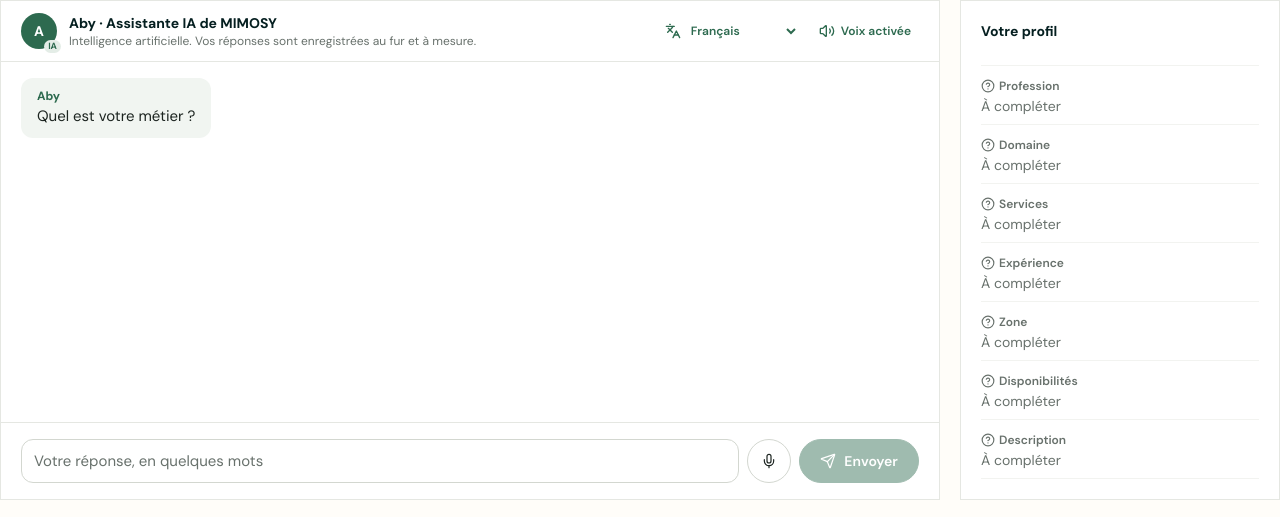
Test: Aby : français par défaut, autre langue sur demande › « Parle-moi en wolof » : la réponse d’Aby passe en wolof
Type "Parle-moi en wolof" into the field with test id "reponse-texte" at coordinates (380, 461), box [21,439,739,483]
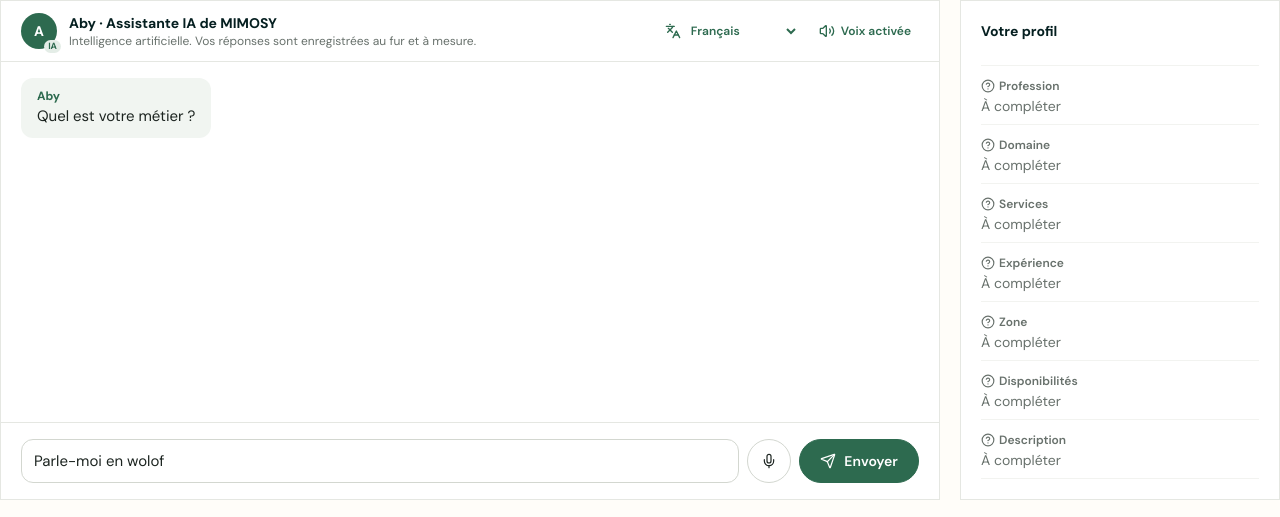
Submit the form, box [1,422,939,499]
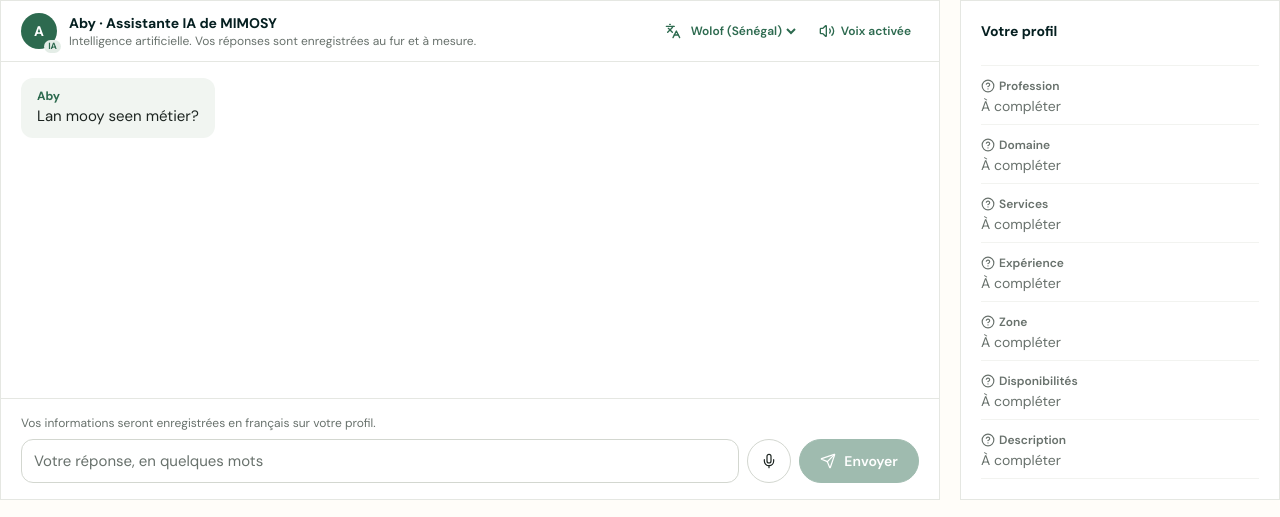
Result: the text "Lan mooy seen métier?" is shown at [37,106,199,126]
Result: the dropdown with test id "langue" shows "Wolof (Sénégal)" at [687,22,799,40]
Result: the text with test id "note-langue" shows "enregistrées en français" at [21,415,376,431]
